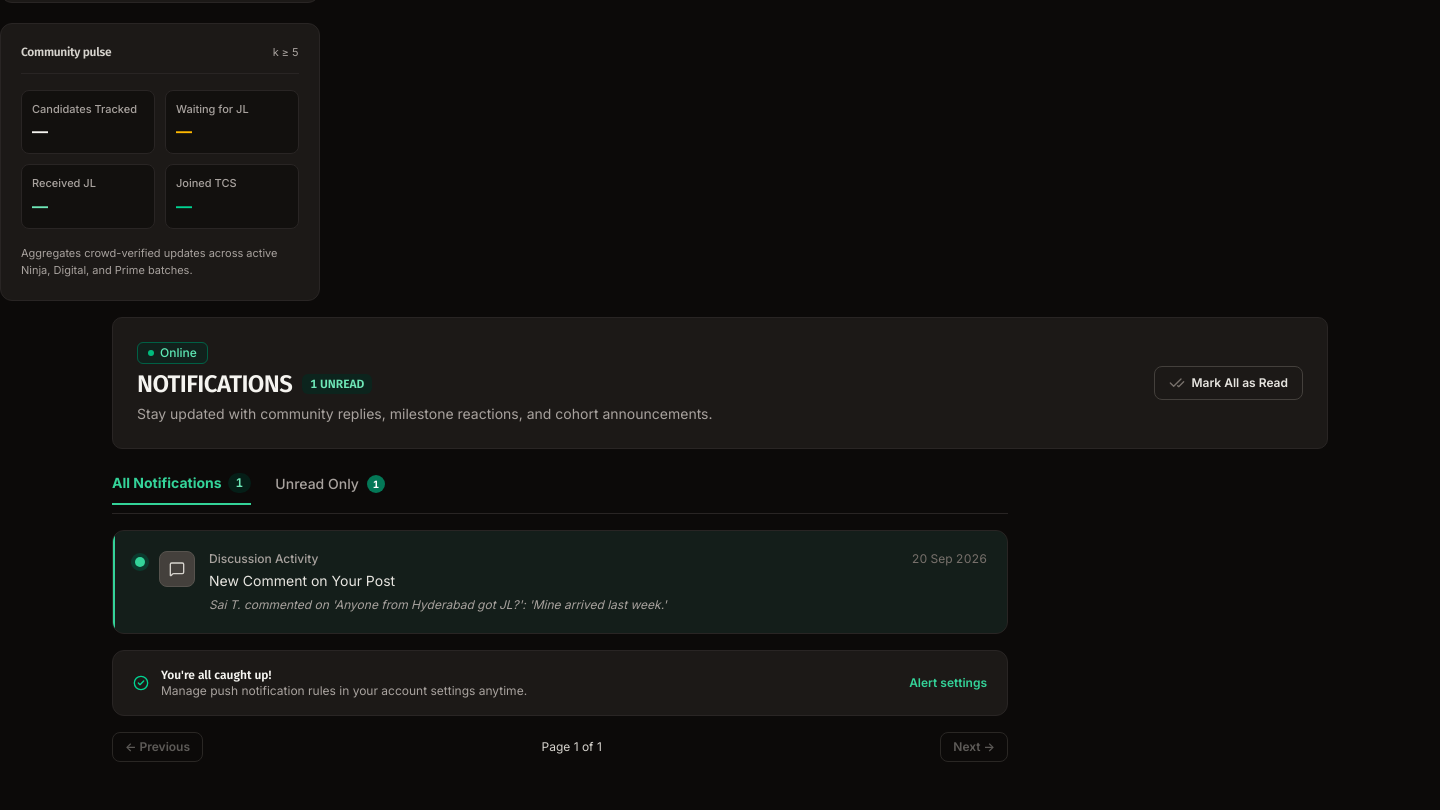
it: §7.10 NotificationsPage (notification_center composition) › rolls the optimistic flip back and refuses to navigate when mark-read fails
(page scrolled)
Click the button with test id "notification-row-n1": (177, 569) x1=113 y1=531 x2=1007 y2=633
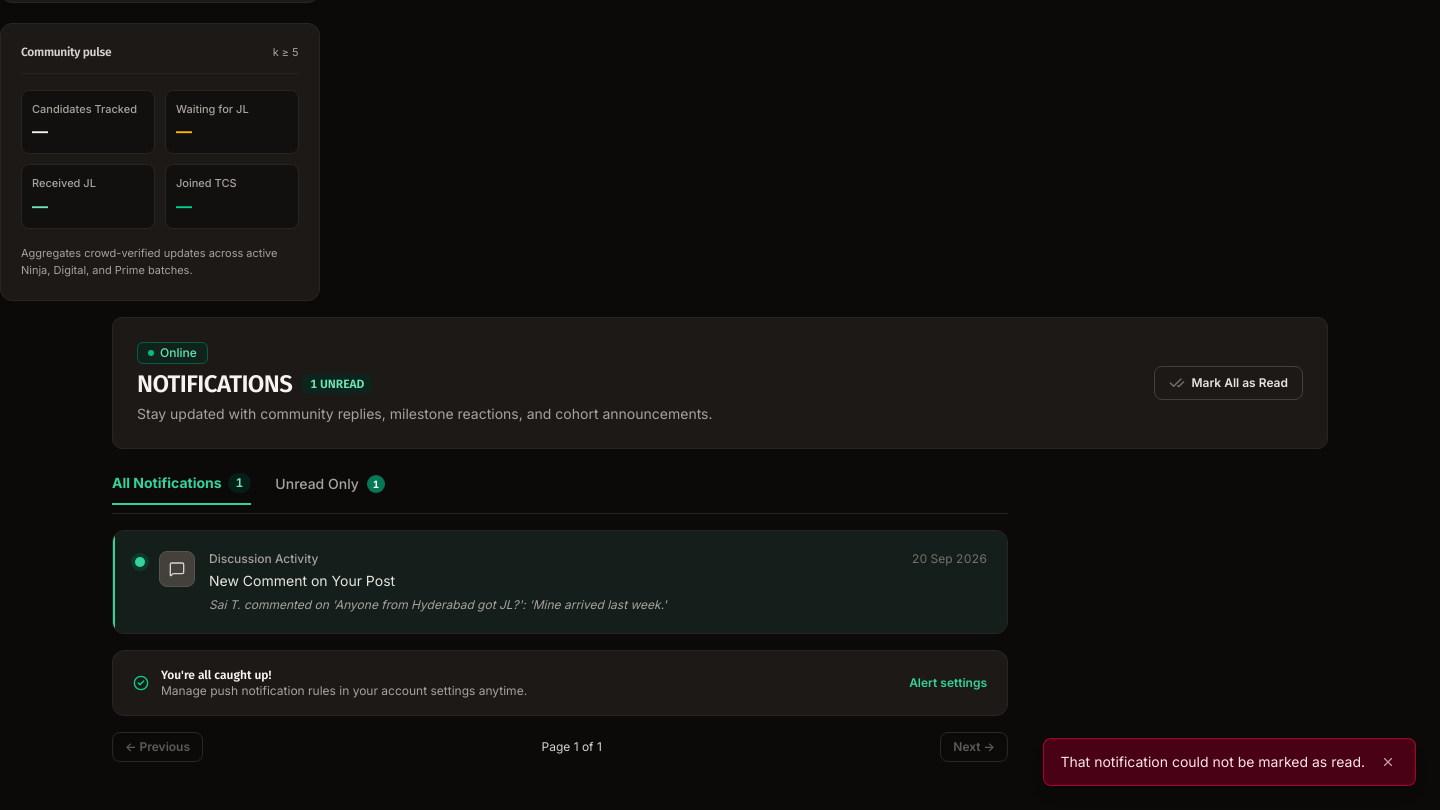
Expected: the element with test id "marker-unread-n1" is shown, x1=135 y1=557 x2=145 y2=567
Expected: the message with test id "toast" reads "That notification could not be marked as read.", x1=1060 y1=753 x2=1365 y2=770
